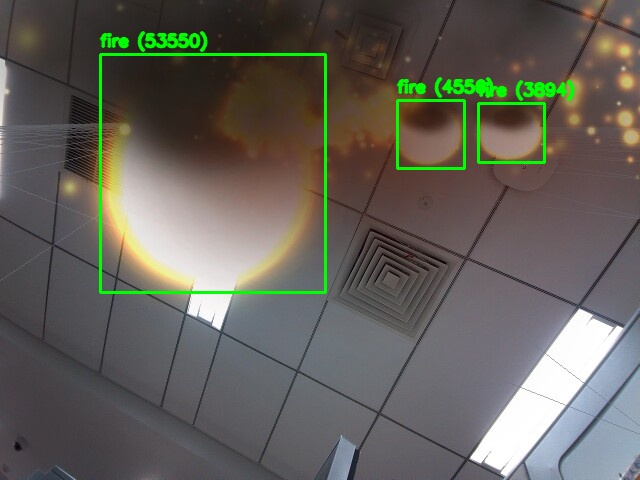fire: (100, 54, 325, 292), (397, 100, 464, 168), (478, 103, 544, 162)
